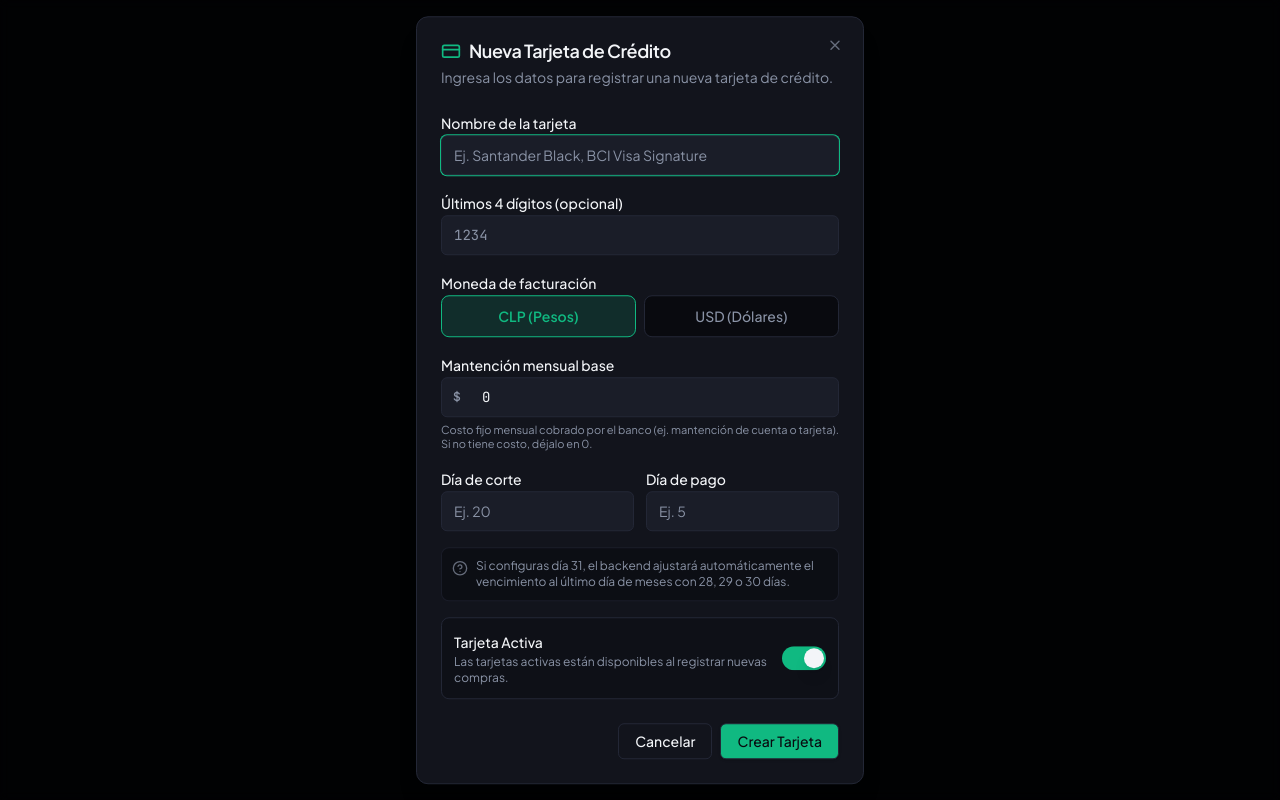
Test: CardFormDialog Component (Spec 003 T4 & Spec 009 T3) › Server Validation Handling (422 Unprocessable Entity) › maps 422 validation errors to corresponding form fields using mapPydanticErrorsToForm
Type "Tarjeta Con Error" into the field labelled "Nombre de la tarjeta". click: (640, 155)
box: left=441, top=135, right=839, bottom=175
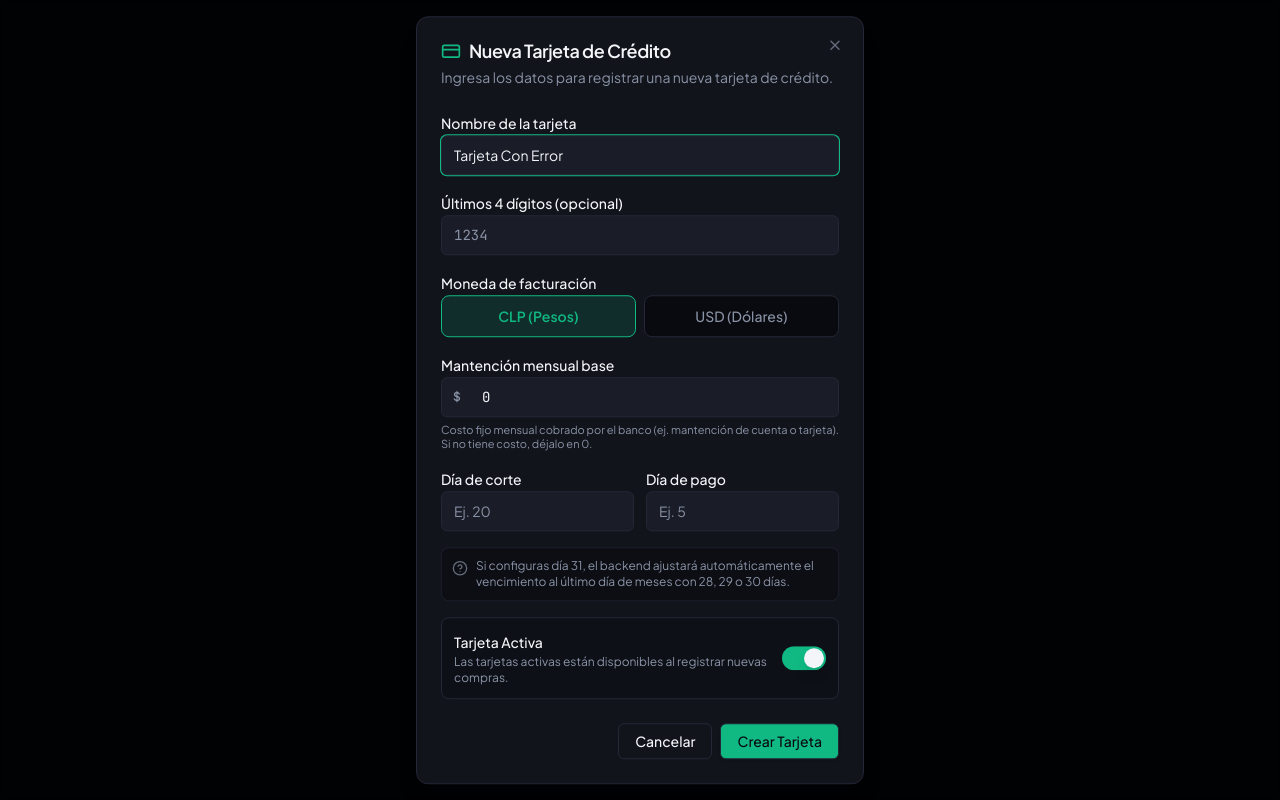
Type "20" into the number field labelled "Día de corte". click: (538, 511)
box: left=441, top=491, right=634, bottom=531
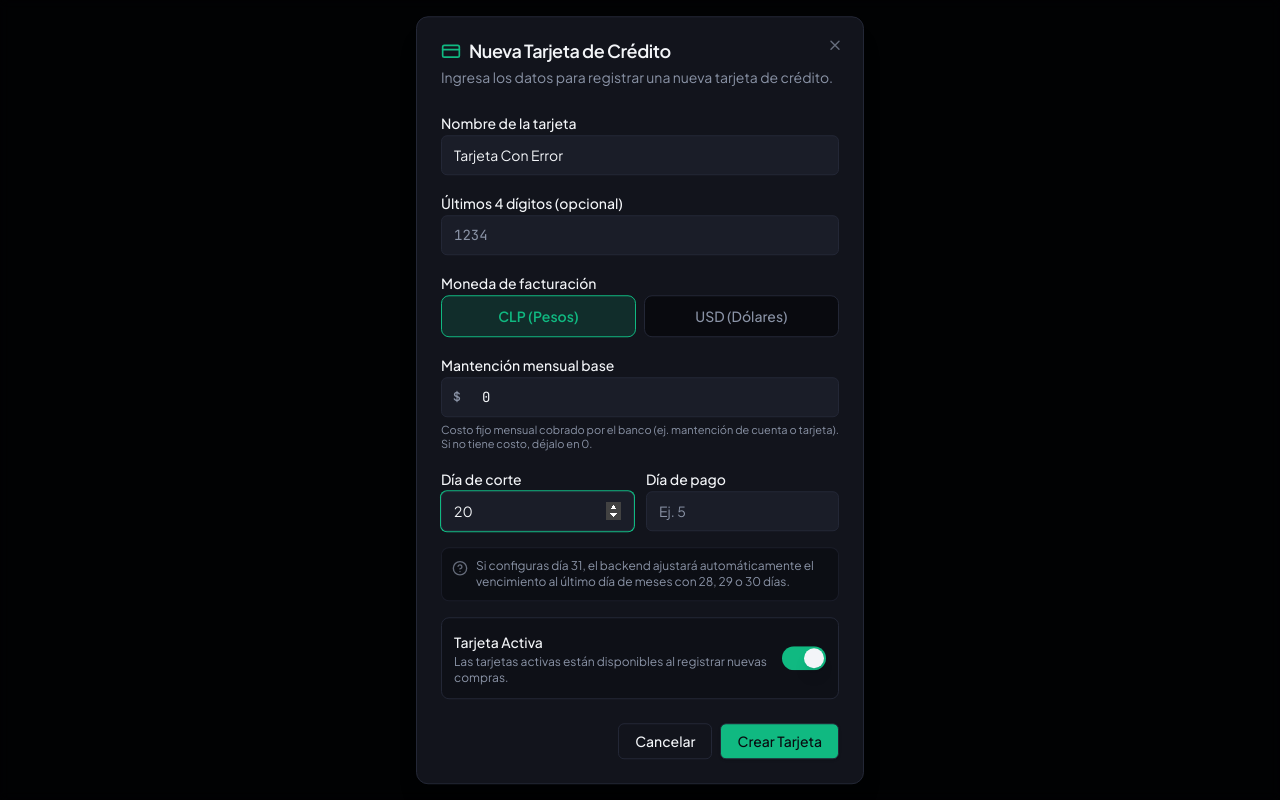
Type "5" into the number field labelled "Día de pago". click: (742, 511)
box: left=646, top=491, right=839, bottom=531
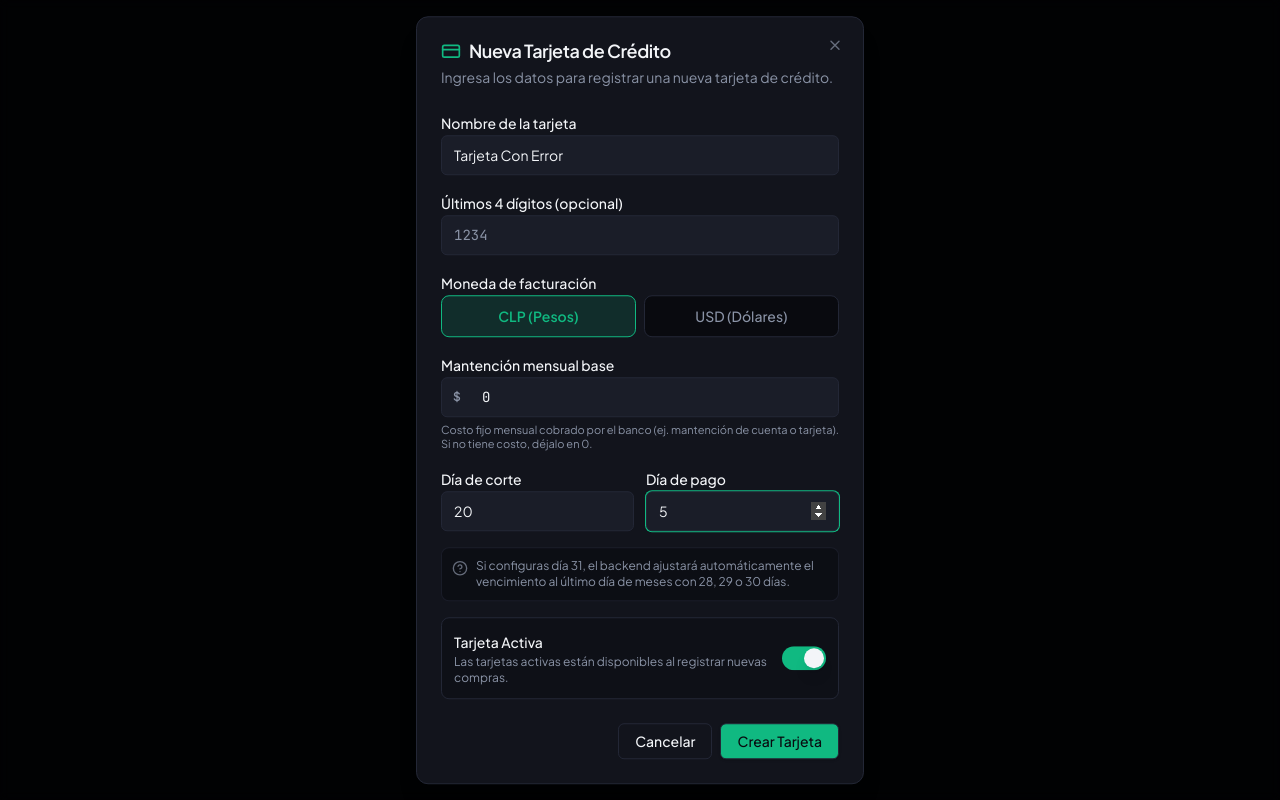
Click the button "Crear Tarjeta". click: (780, 741)
box: left=720, top=723, right=839, bottom=759
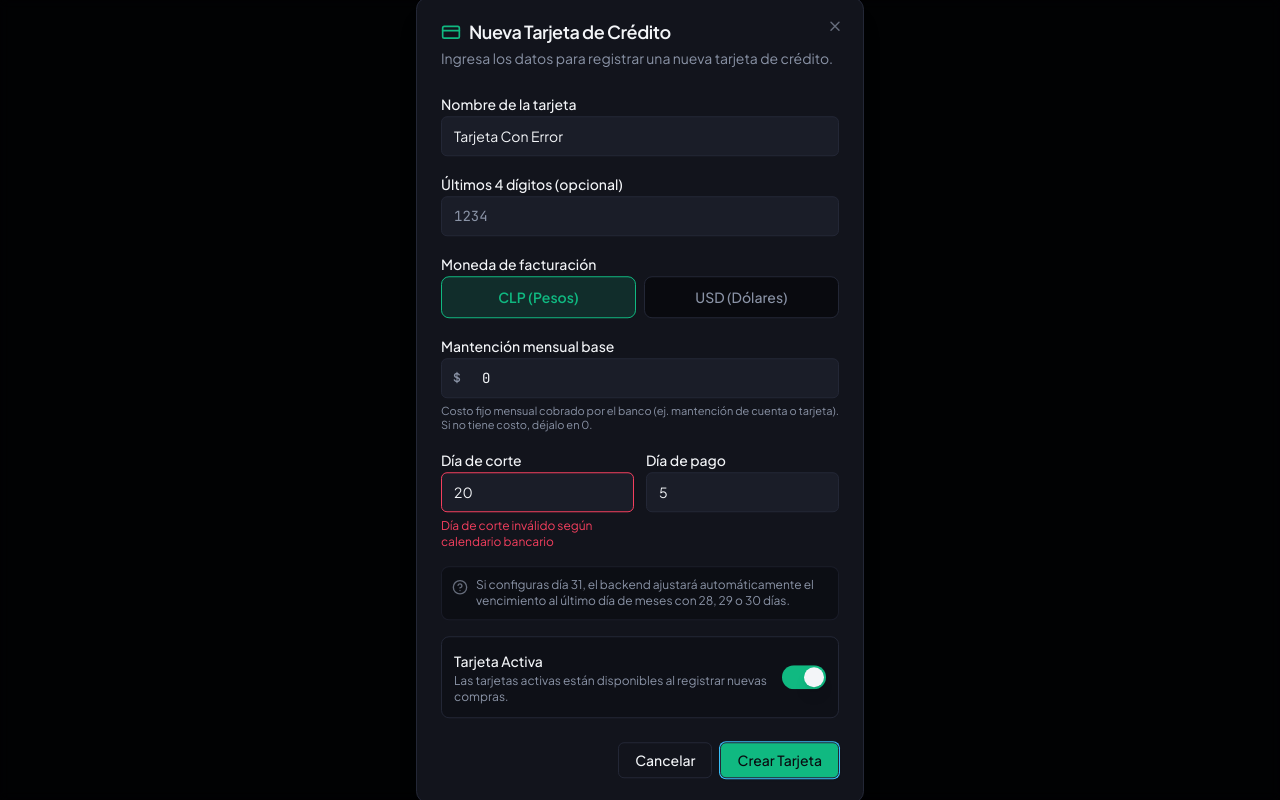
Check: the text "Día de corte inválido según calendario bancario" is shown, box left=441, top=518, right=592, bottom=549
